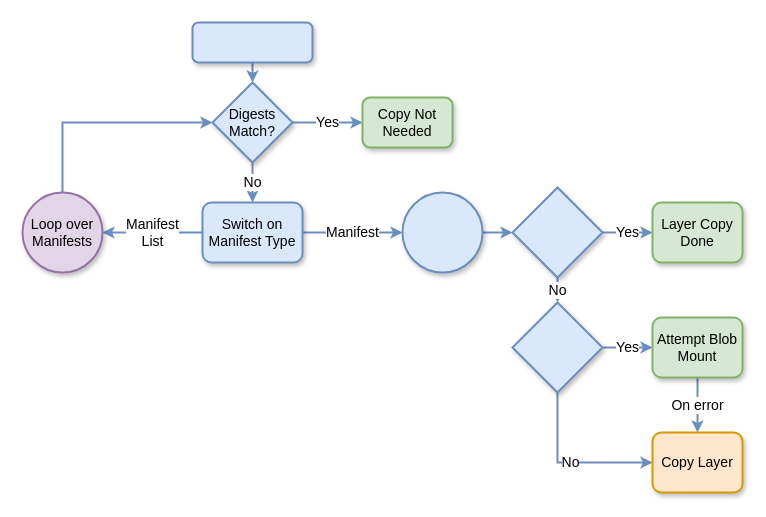
This 766x517 diagram has some shape labels left out. The centre of each missing label's shape, as x and y in pixels:
"Copy Image" goes at pixel 253 43.
"Loop over Layers" goes at pixel 443 233.
"Same Registry?" goes at pixel 558 348.
"Same Repo?" goes at pixel 558 233.
